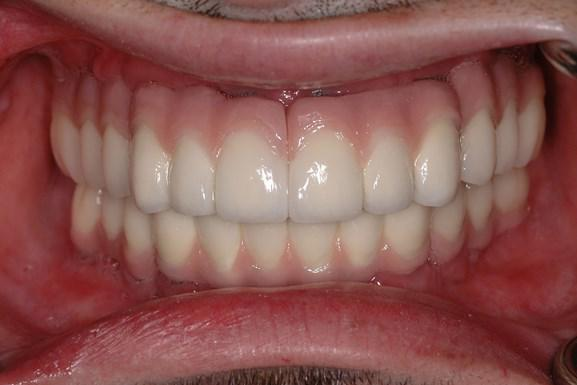normal: (215, 128, 289, 223), (289, 131, 363, 221), (363, 130, 412, 216), (166, 136, 214, 217), (410, 125, 456, 208), (130, 121, 169, 214), (458, 107, 495, 187), (195, 214, 243, 269), (287, 220, 337, 271), (98, 123, 131, 198), (240, 218, 287, 270), (383, 205, 429, 257), (50, 116, 84, 185), (154, 207, 195, 264), (339, 210, 380, 267), (429, 193, 468, 243), (493, 97, 518, 174), (121, 202, 155, 254), (518, 100, 543, 169), (80, 121, 106, 187), (462, 182, 493, 232), (73, 185, 101, 237), (493, 172, 529, 211), (100, 192, 123, 240)
